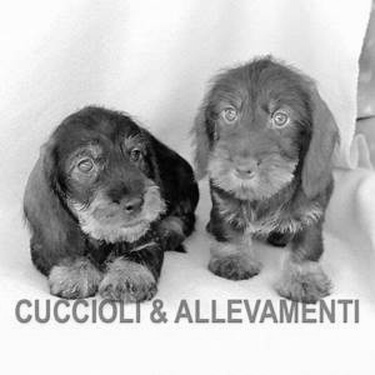dog: (7, 95, 215, 323), (179, 47, 346, 310)
